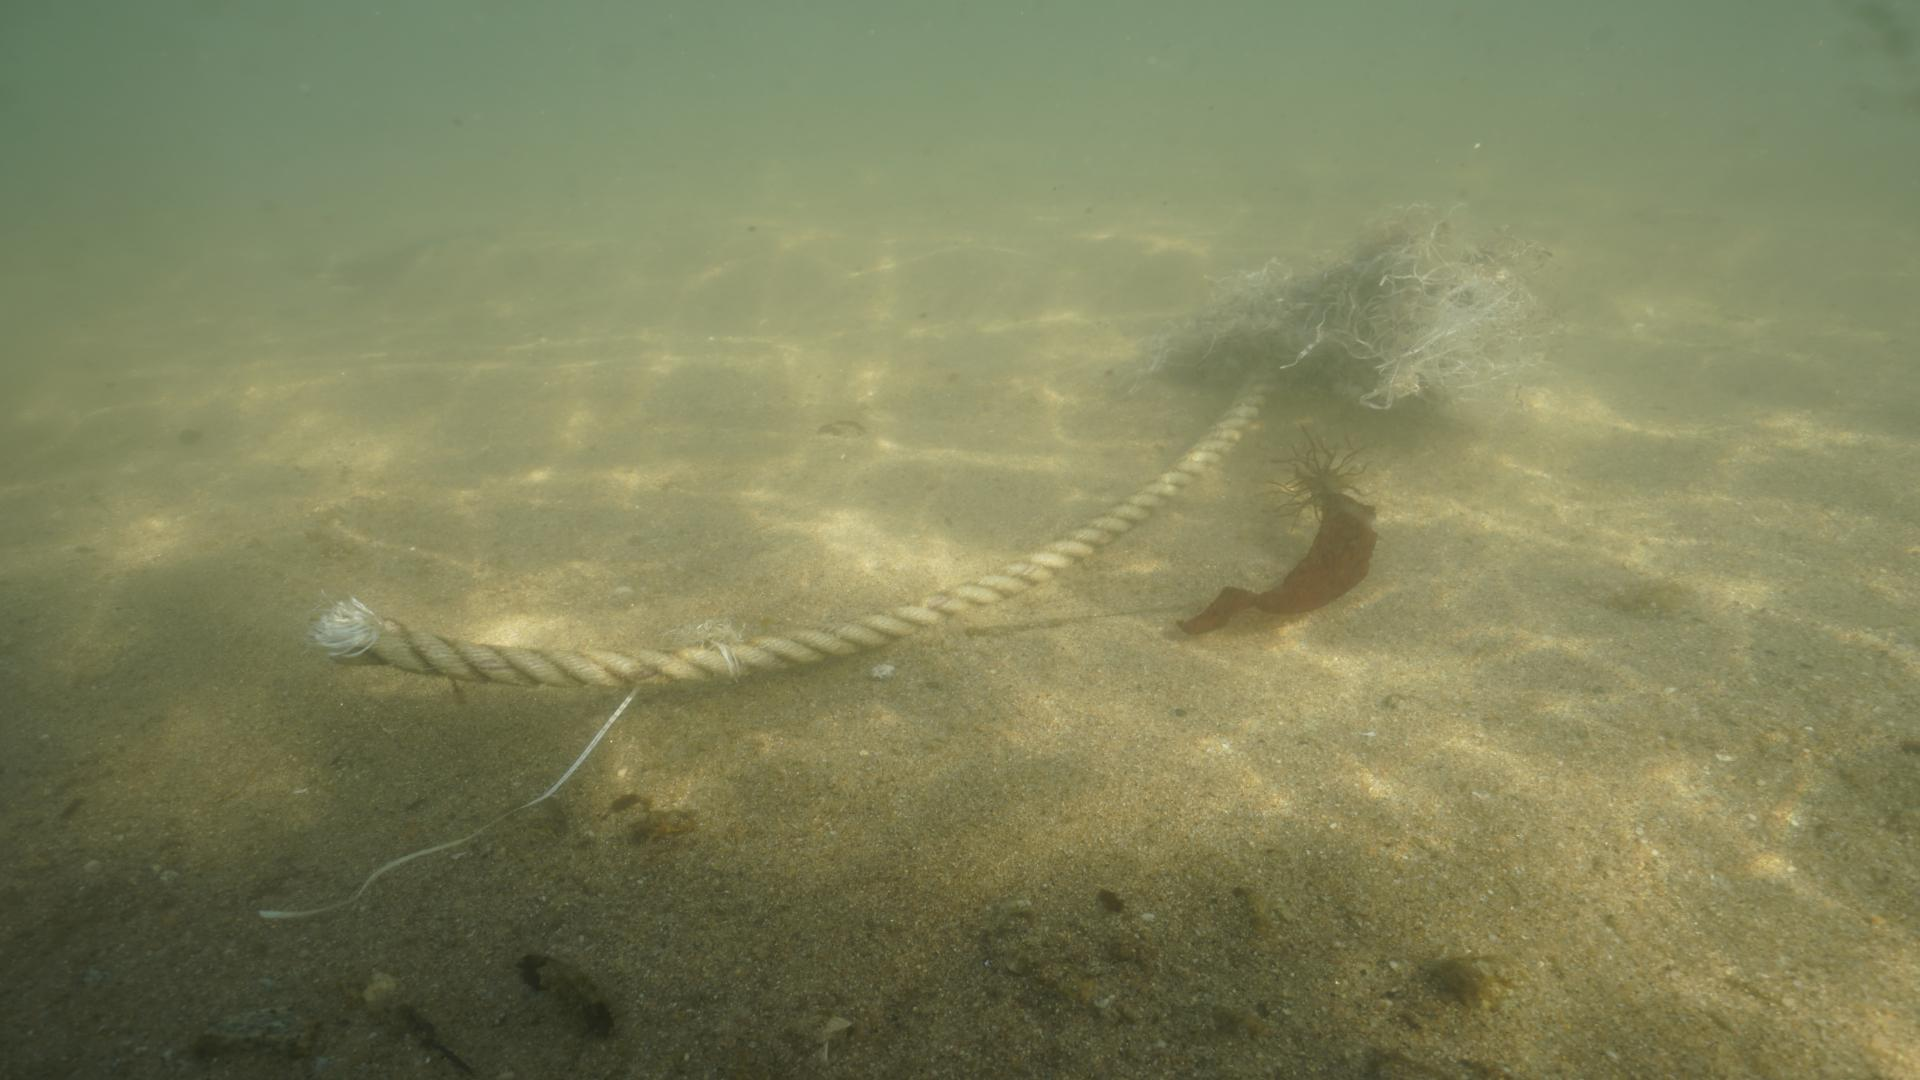rope: (320, 367, 1273, 705)
